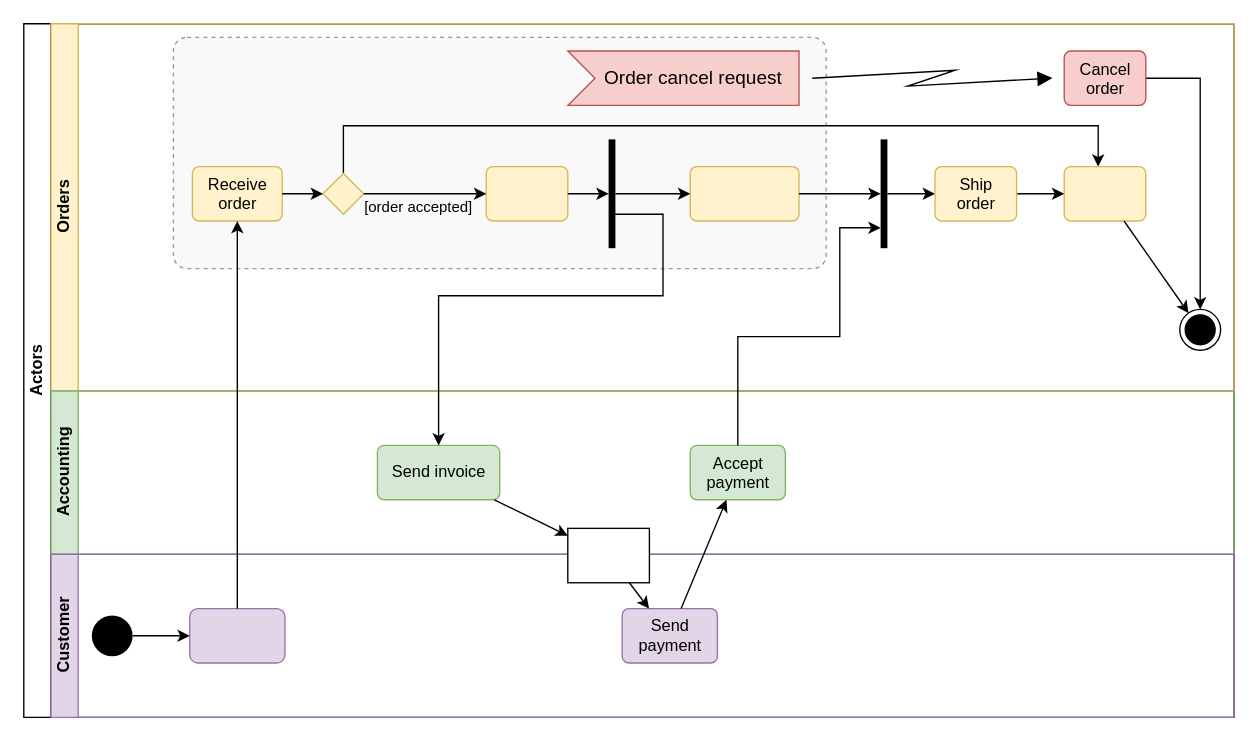
Image size: 1258x741. Some labels were removed from this diagram. The centre of each missing label's shape, as x and y in pixels:
Close order: pixel 1104 193
Fill order: pixel 526 193
Invoice: pixel 607 555
Prepare shipment: pixel 744 193
Submit order: pixel 236 635
